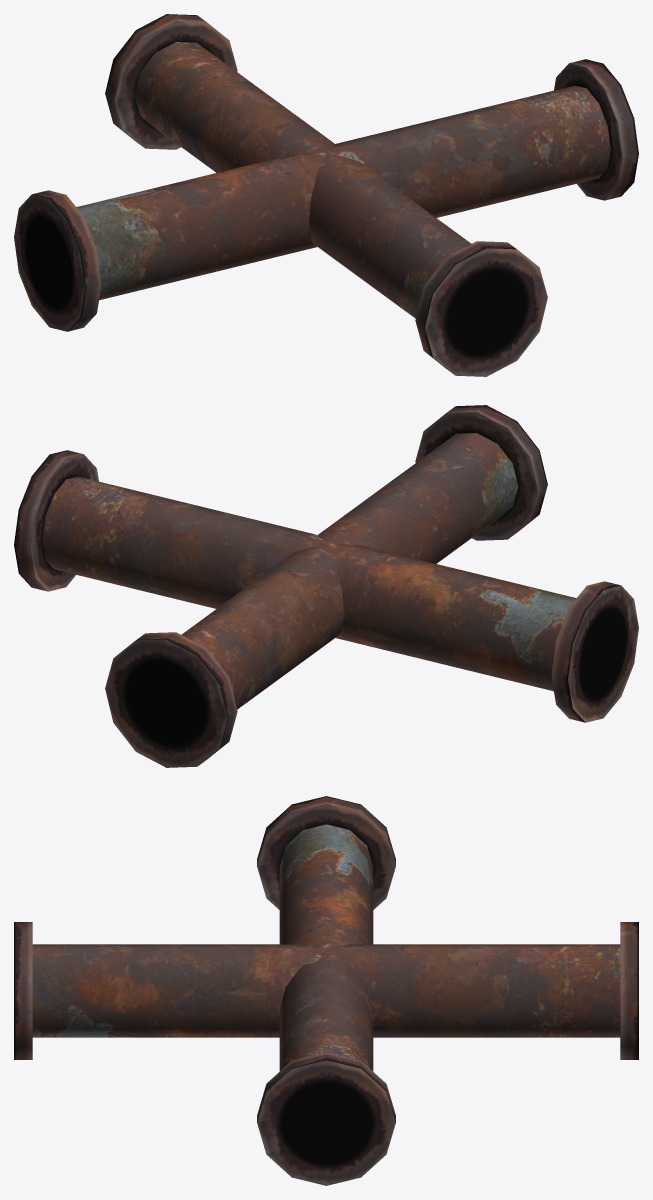
Rendered from pipe01_X.fbx.
3 renders of one model, top to bottom at view 1: azimuth 30°, elevation 25°; view 2: azimuth 150°, elevation 25°; view 3: azimuth 270°, elevation 25°, orthographic. The views are drawn at different scales.
Parts seen in each view (by area): view 1: pipe01_X; view 2: pipe01_X; view 3: pipe01_X.
Part boxes in pixels (box(x1,y1,x2,y2)): pipe01_X: box(14, 14, 638, 376); pipe01_X: box(14, 405, 638, 767); pipe01_X: box(14, 796, 638, 1185).
Bounding box in the file's own units: 100 × 22.2 × 100.
